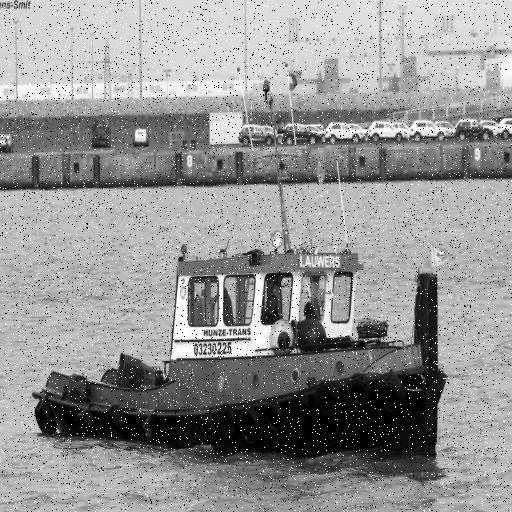tugboat: (31, 231, 450, 465)
